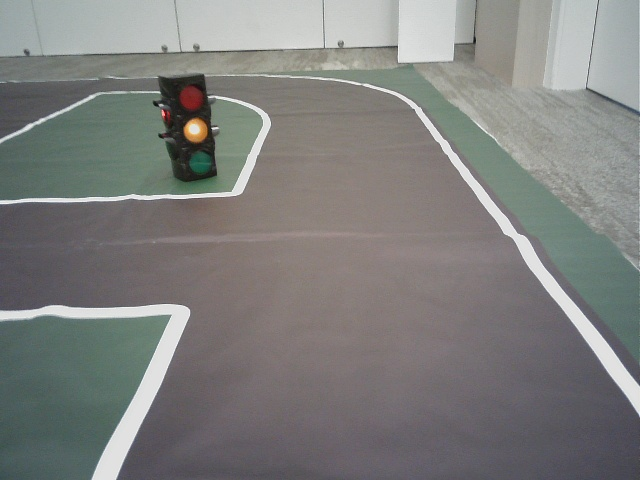yellow: (171, 78, 213, 176)
